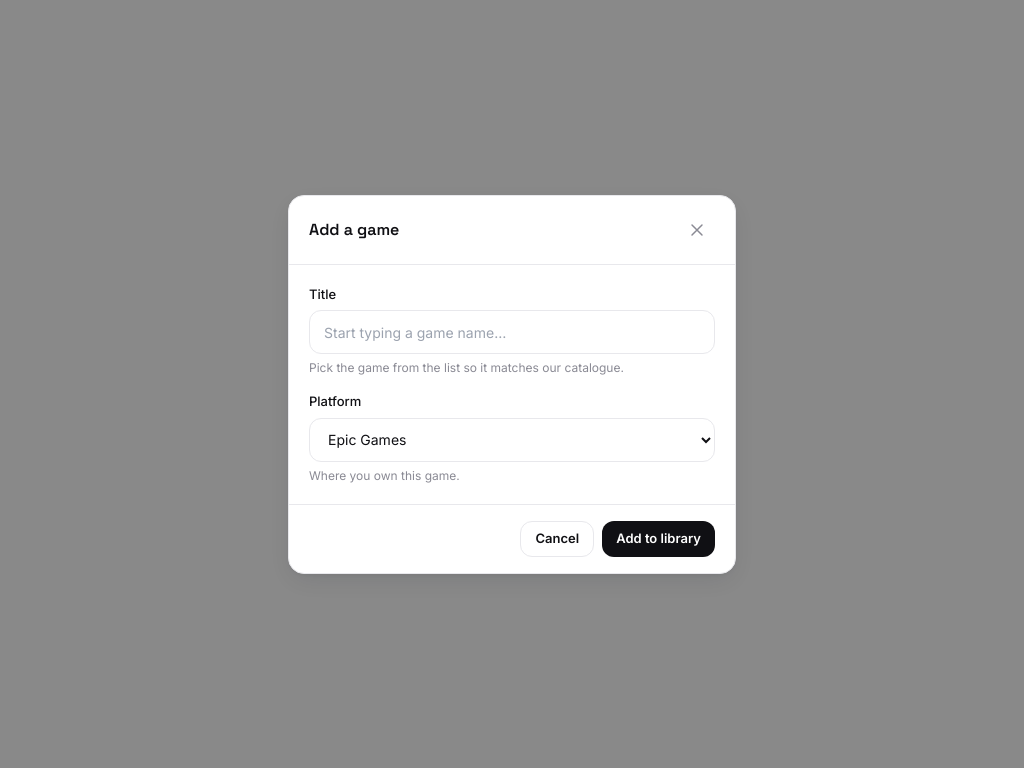
AddGameModal: autocomplete against the games table (TM11-54) › only adds a game picked from the suggestions
Type "My Homebrew Game" into the dropdown labelled "Title" at [512, 332], box [309,310,715,354]
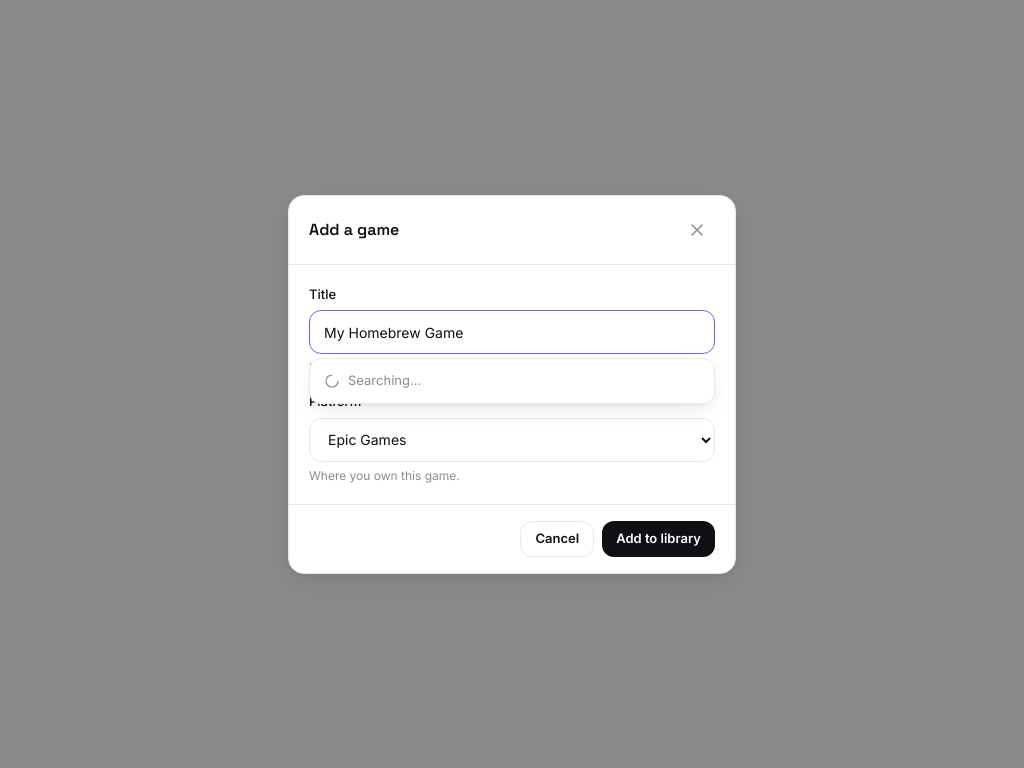
Click the button "Add to library" at [659, 538], box [602,520,715,556]
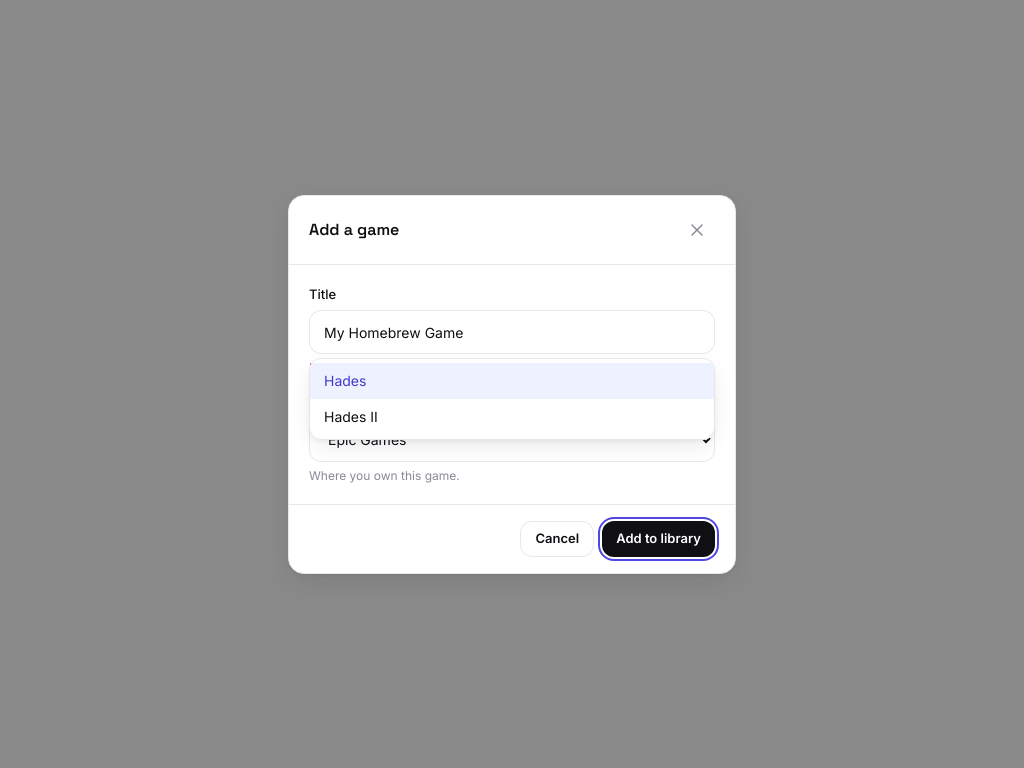
Expected: the text "Pick a game from the suggestions." is shown, [309,360,505,375]
